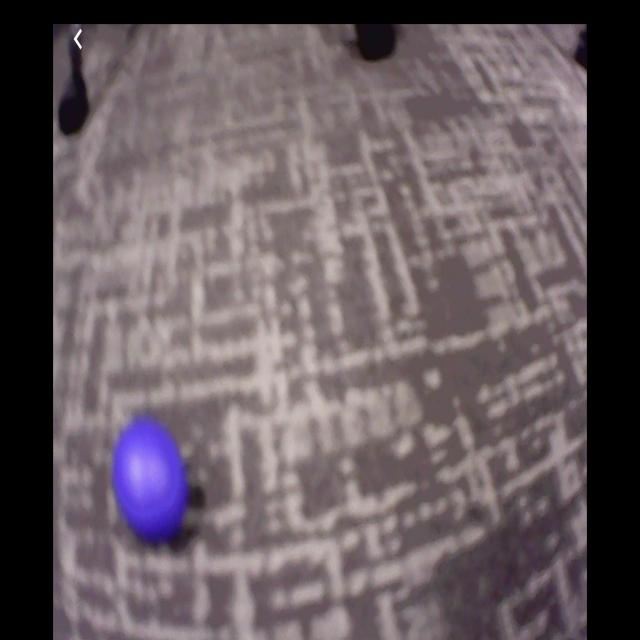ball: (112, 419, 188, 543)
